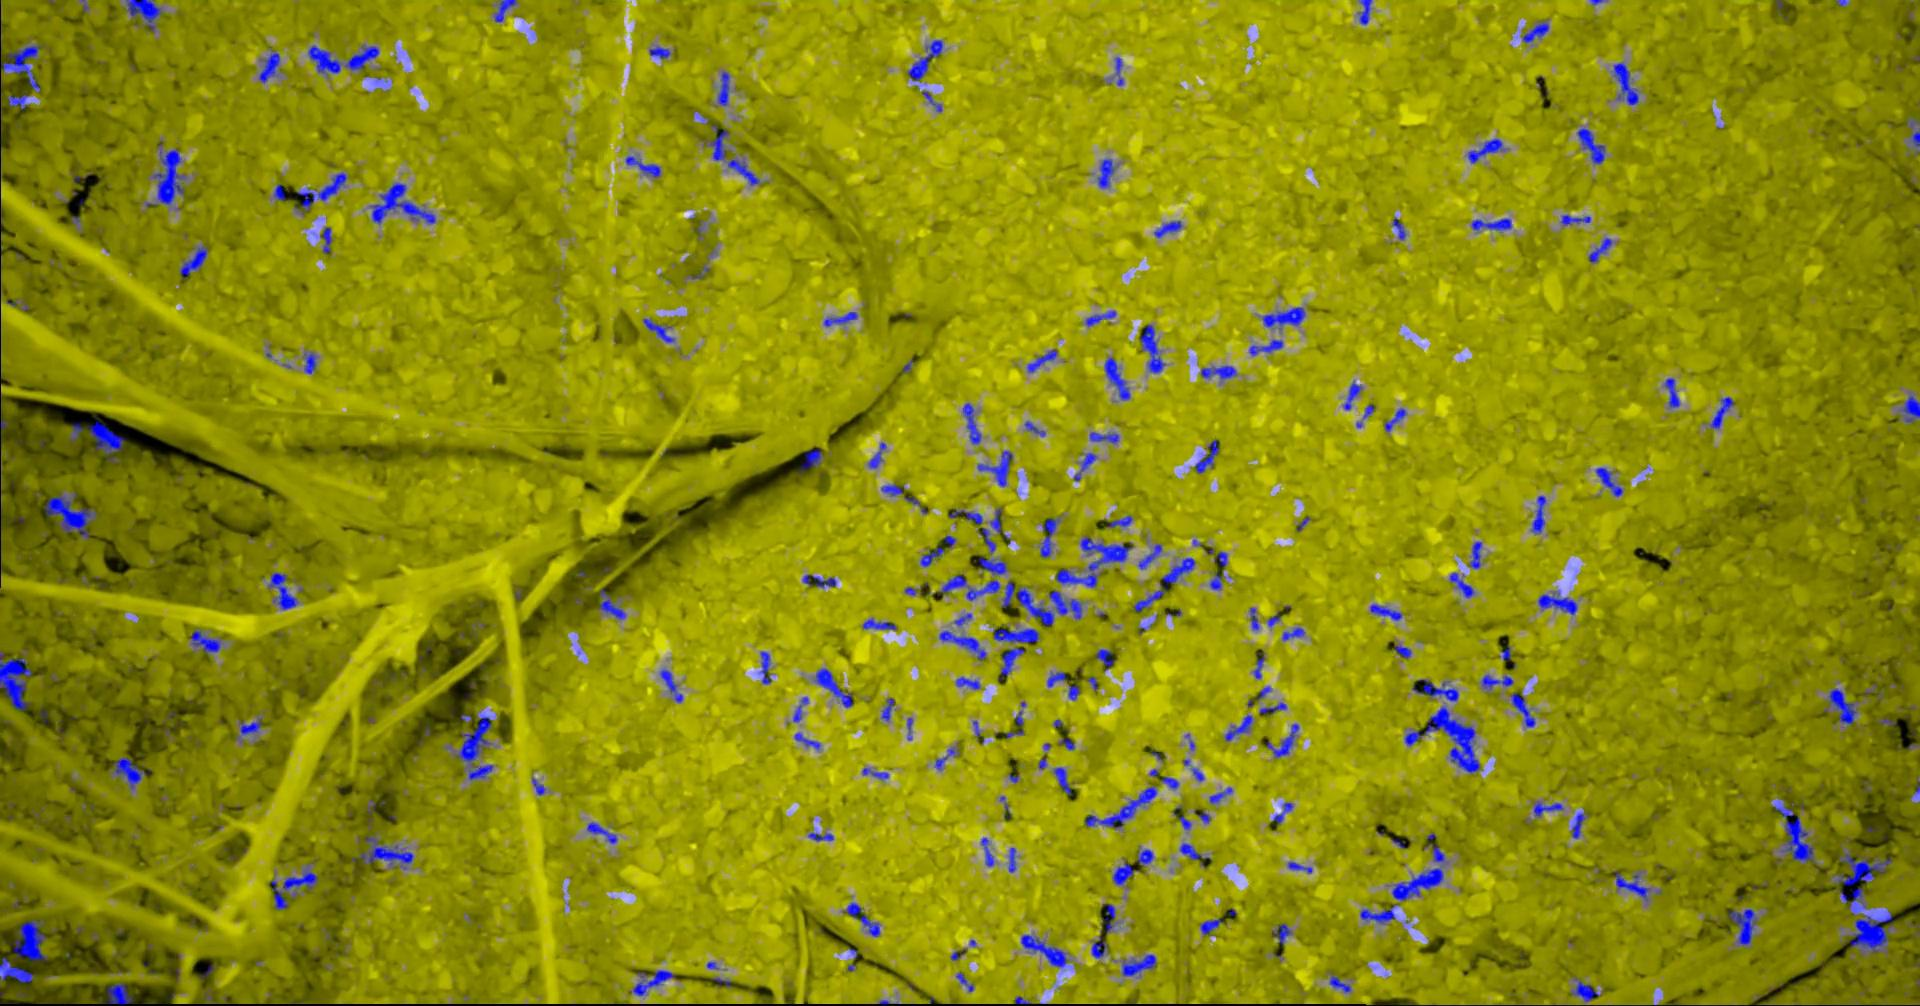ant: (1135, 558, 1197, 611), (1087, 785, 1158, 828), (372, 182, 437, 224), (1777, 801, 1818, 862), (46, 493, 98, 537), (1003, 580, 1055, 625), (458, 716, 494, 779), (296, 171, 348, 213), (353, 835, 415, 869), (309, 44, 380, 74), (1845, 911, 1895, 953), (1, 44, 42, 91), (1, 652, 33, 710), (154, 149, 187, 205), (1393, 868, 1445, 901), (88, 420, 127, 462), (941, 573, 1001, 600), (1022, 934, 1068, 967), (817, 668, 855, 708), (909, 39, 943, 83), (940, 630, 987, 661), (15, 920, 50, 960), (979, 450, 1015, 486), (844, 902, 881, 936), (1142, 324, 1167, 372), (630, 969, 676, 995), (114, 757, 151, 788), (1106, 357, 1131, 400), (1269, 723, 1300, 757), (127, 0, 163, 30), (1615, 62, 1641, 104), (1730, 908, 1757, 946), (1617, 871, 1652, 901), (270, 572, 298, 608), (1830, 688, 1858, 725), (1413, 680, 1460, 701), (1263, 306, 1305, 330), (1050, 589, 1084, 619), (1578, 127, 1606, 163), (182, 244, 210, 279), (1539, 589, 1578, 614), (599, 587, 627, 619), (1, 956, 36, 982), (1469, 138, 1505, 163), (729, 159, 761, 185), (1512, 692, 1537, 727), (1710, 396, 1736, 428), (1196, 439, 1220, 473), (1225, 714, 1255, 741), (964, 401, 982, 445), (662, 669, 684, 702), (1041, 518, 1060, 558), (1597, 467, 1624, 495), (627, 155, 662, 177), (284, 869, 319, 890), (1123, 954, 1157, 976), (645, 318, 676, 342), (192, 629, 222, 653), (1181, 843, 1211, 868), (711, 123, 730, 160), (994, 626, 1040, 641), (1002, 647, 1026, 674), (260, 50, 281, 83), (1029, 349, 1058, 372), (588, 822, 618, 843), (1361, 904, 1396, 923), (105, 983, 135, 1005), (1572, 981, 1603, 1001), (799, 448, 824, 473), (1451, 572, 1476, 597), (1140, 542, 1163, 569), (1590, 238, 1614, 262), (1531, 495, 1547, 533), (977, 556, 1008, 574), (1524, 22, 1550, 42), (1098, 158, 1116, 188), (1371, 603, 1403, 620), (950, 509, 984, 525), (1385, 406, 1407, 431), (936, 747, 960, 768), (1429, 832, 1446, 861), (272, 880, 290, 909), (237, 718, 263, 738), (1087, 310, 1117, 326), (825, 311, 858, 326), (1251, 339, 1284, 354), (1156, 220, 1183, 238), (1203, 365, 1238, 379), (497, 0, 519, 22), (1114, 861, 1135, 884), (922, 546, 946, 567), (869, 442, 888, 467), (1345, 382, 1363, 409), (1902, 395, 1920, 422), (1007, 710, 1025, 737), (1055, 767, 1073, 794), (1272, 801, 1294, 823), (796, 732, 822, 749), (1473, 218, 1512, 230), (1666, 377, 1681, 406), (1183, 760, 1205, 780), (719, 71, 731, 105), (905, 495, 930, 513), (1483, 674, 1514, 688), (1572, 810, 1587, 838), (1102, 903, 1116, 934), (804, 574, 837, 587), (794, 696, 810, 721), (923, 90, 943, 111), (1535, 801, 1564, 815), (982, 837, 996, 866), (761, 652, 773, 683), (1201, 918, 1225, 935), (982, 527, 997, 553), (1097, 649, 1115, 671), (1274, 923, 1291, 945), (1091, 431, 1120, 443), (957, 970, 975, 991), (1331, 976, 1352, 992), (863, 619, 898, 629), (1211, 788, 1234, 803), (1470, 541, 1483, 568), (1359, 0, 1373, 24), (9, 93, 29, 109), (1255, 649, 1266, 678), (1093, 935, 1109, 956), (990, 507, 1003, 532), (1393, 216, 1407, 239), (883, 697, 897, 720), (1562, 213, 1592, 224), (1109, 514, 1133, 527), (957, 676, 982, 688), (863, 767, 890, 779), (1026, 420, 1048, 434), (1139, 848, 1156, 866), (321, 227, 333, 253), (1082, 452, 1097, 471), (883, 483, 905, 495), (1283, 627, 1305, 640), (1048, 671, 1067, 686), (71, 420, 85, 441), (1289, 861, 1313, 873), (305, 352, 317, 373), (1261, 702, 1288, 713), (276, 183, 291, 199), (1116, 57, 1125, 85), (1211, 572, 1225, 589), (533, 777, 547, 795), (651, 46, 670, 58), (809, 832, 836, 841), (1162, 776, 1180, 789), (1396, 645, 1412, 658), (1215, 551, 1228, 567), (1010, 847, 1017, 873), (1251, 607, 1260, 629), (956, 614, 973, 625), (1062, 737, 1076, 749), (1180, 815, 1192, 829), (1069, 683, 1081, 699), (714, 977, 733, 986), (1016, 996, 1032, 1005), (1912, 128, 1920, 146)
